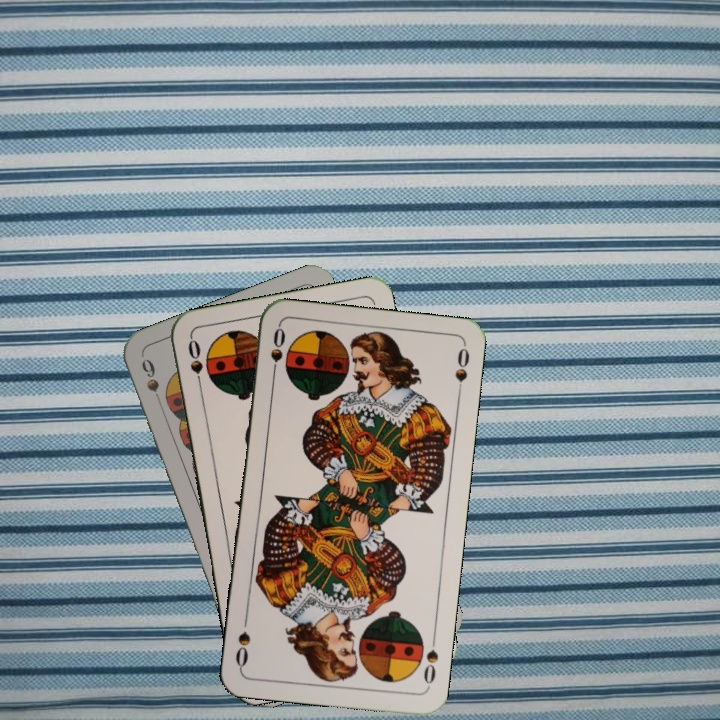S9: (137, 354, 166, 411)
SO: (419, 631, 441, 691), (184, 334, 206, 393), (266, 323, 288, 382)
